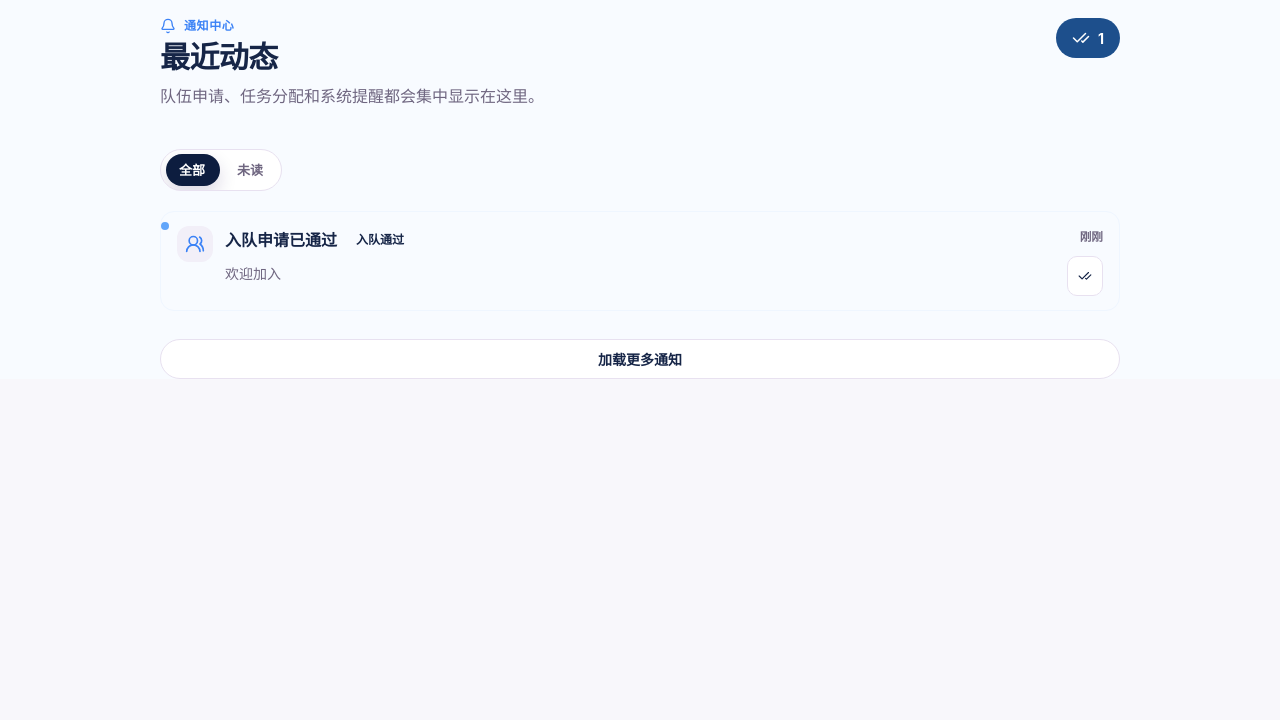
Scenario: NotificationsPage › opens notification details from a list item
The width and height of the screenshot is (1280, 720).
Click the button with aria-label "查看通知详情": (195, 244) [160,211,1120,311]
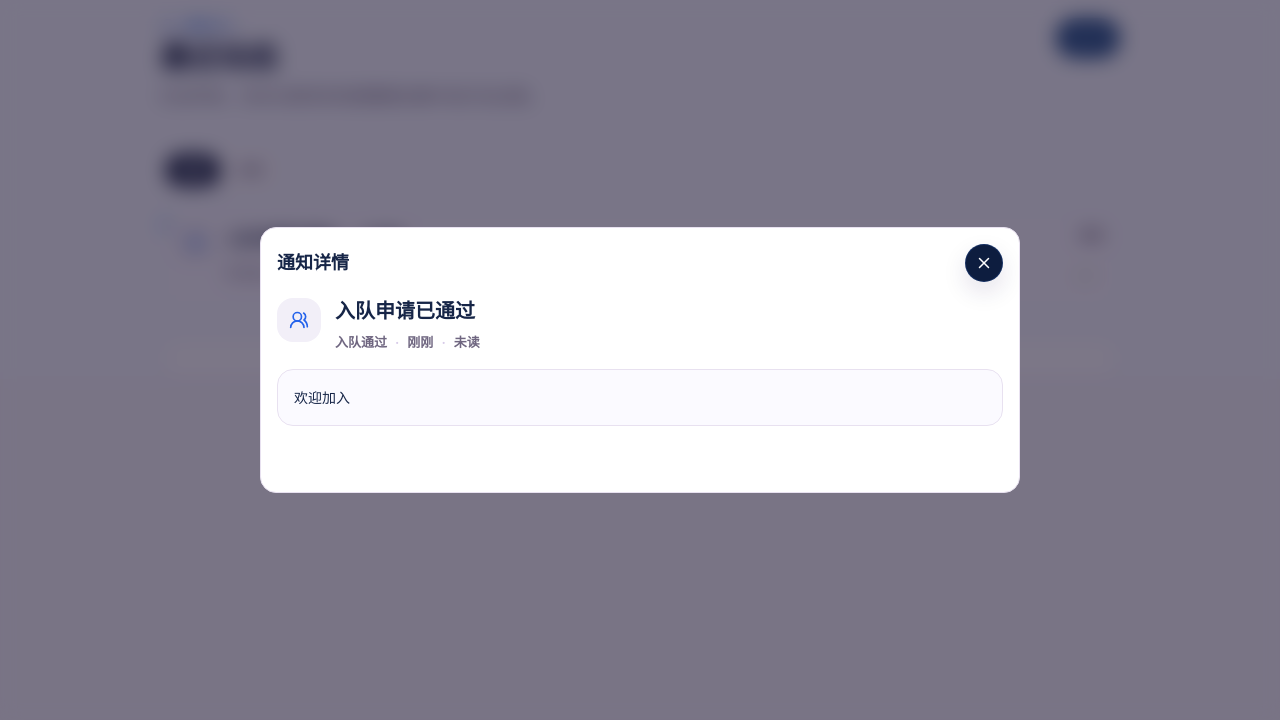
expect the dialog "通知详情" is shown: met, box [260,227,1020,493]
expect the text "欢迎加入" is shown: met, box [277,369,1003,426]
